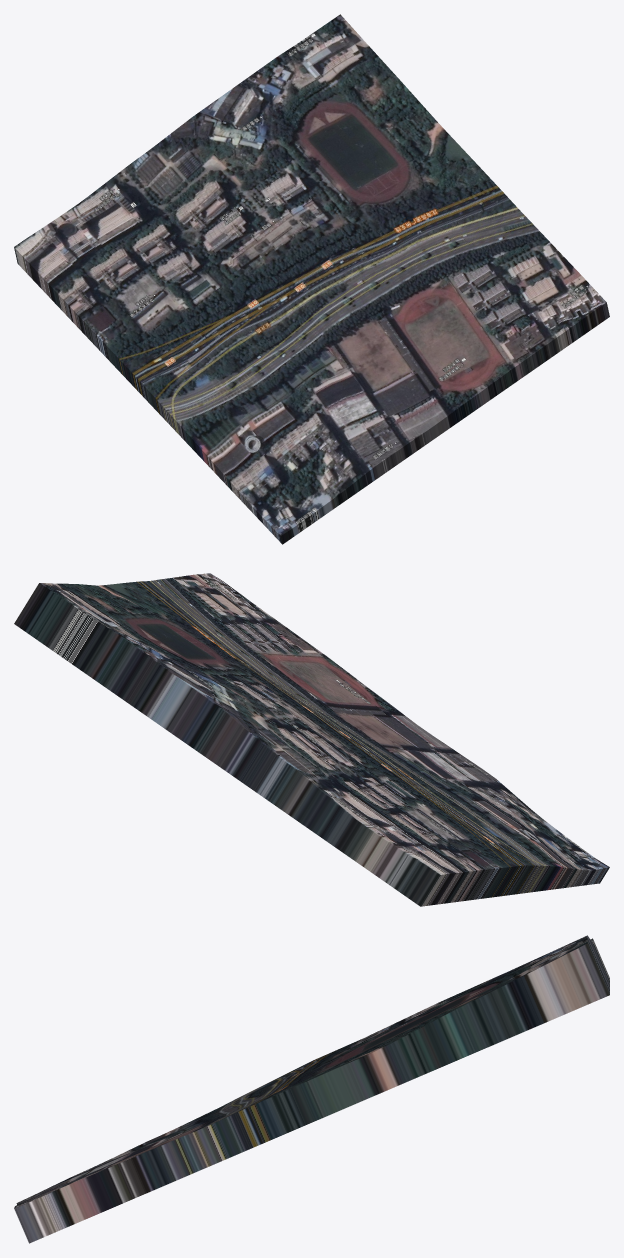
3 renders of one model, top to bottom at view 1: azimuth 30°, elevation 25°; view 2: azimuth 150°, elevation 25°; view 3: azimuth 270°, elevation 25°, orthographic. The views are drawn at different scales.
Parts seen in each view (by area): view 1: 0_2_28; view 2: 0_2_28; view 3: 0_2_28.
Boxes of the visible parts, <box> form: 0_2_28: <box>14,14,609,544</box>; 0_2_28: <box>14,573,609,906</box>; 0_2_28: <box>14,935,609,1243</box>.
Size of the model in its own units: 607 by 473 by 556.
Materials: 1 (1 with a texture image).
